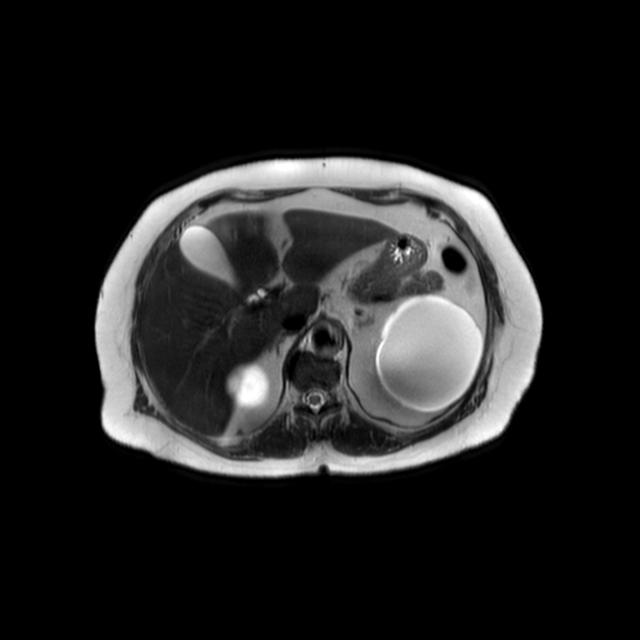sag: (228, 365, 271, 408)
sol: (372, 295, 483, 416)
